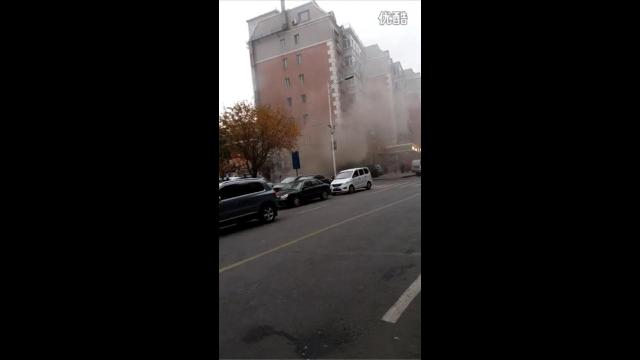smoke: (366, 88, 396, 136), (338, 130, 364, 162)
